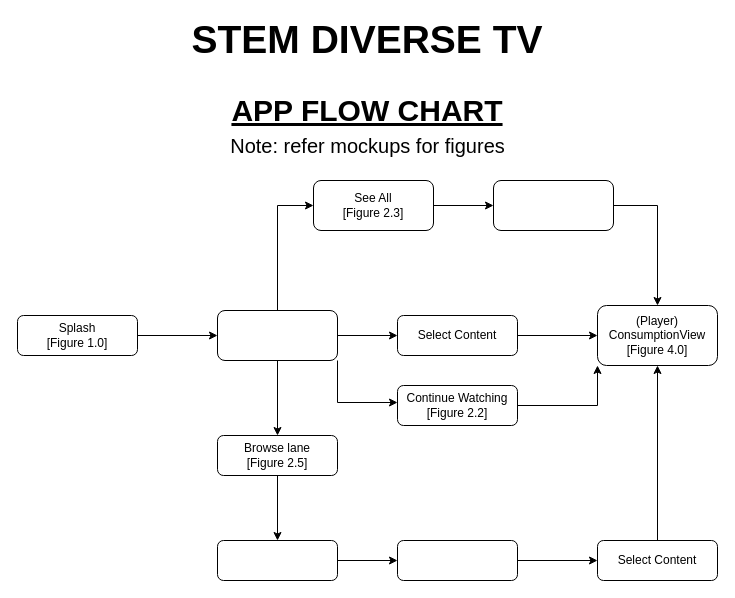
Some shapes in this 735 by 598 pixel diagram are drawn without their labels. The centre of each missing label's shape, as x and y in pixels:
Grid View [Figure 2.4]: point (553, 205)
Home [Figure 2.1]: point (277, 335)
Search [Figure 3.1]: point (277, 560)
Search Results [Figure 3.2]: point (457, 560)
